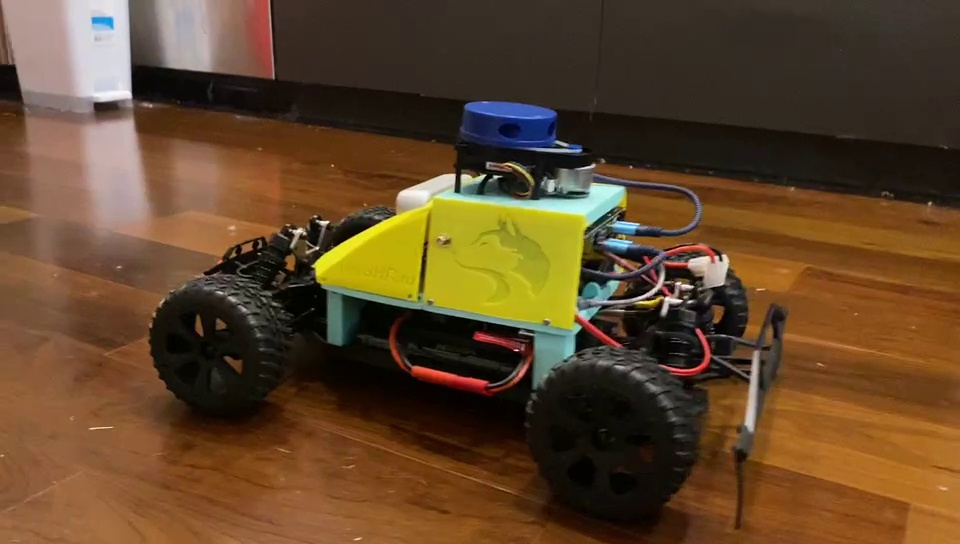mushr_car: (138, 94, 798, 544)
